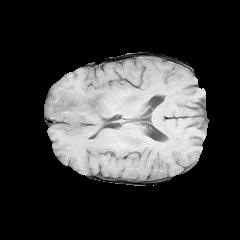glioma: (46, 90, 113, 133)
